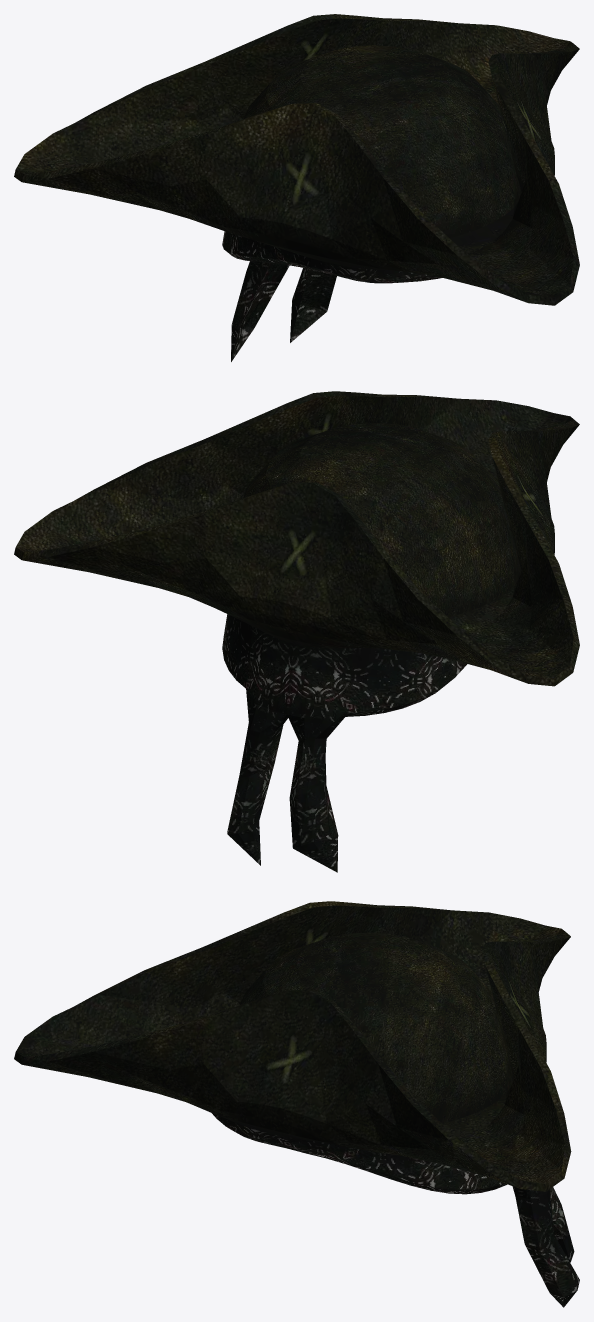
File: ITAR_HEM_PIRATE.glb
The picture shows the model from 3 angles, top to bottom: view 1: azimuth 30°, elevation 25°; view 2: azimuth 150°, elevation 25°; view 3: azimuth 270°, elevation 25°; orthographic projection.
Parts seen in each view (by area): view 1: ITAR_HEM_PIRATE; view 2: ITAR_HEM_PIRATE; view 3: ITAR_HEM_PIRATE.
Part boxes in pixels (box(x1,y1,x2,y2)): ITAR_HEM_PIRATE: box(14, 14, 579, 361); ITAR_HEM_PIRATE: box(14, 391, 579, 872); ITAR_HEM_PIRATE: box(14, 901, 579, 1307).
Size of the model in its own units: 0.4507 by 0.281 by 0.4069.
Materials: 1 (1 with a texture image).
